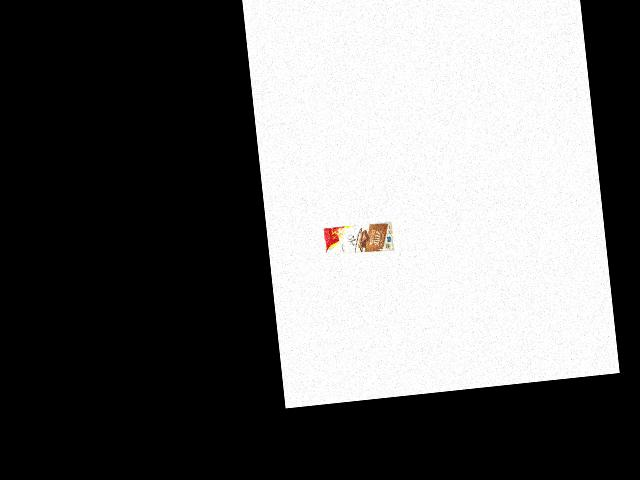chocolate: (321, 219, 393, 258)
